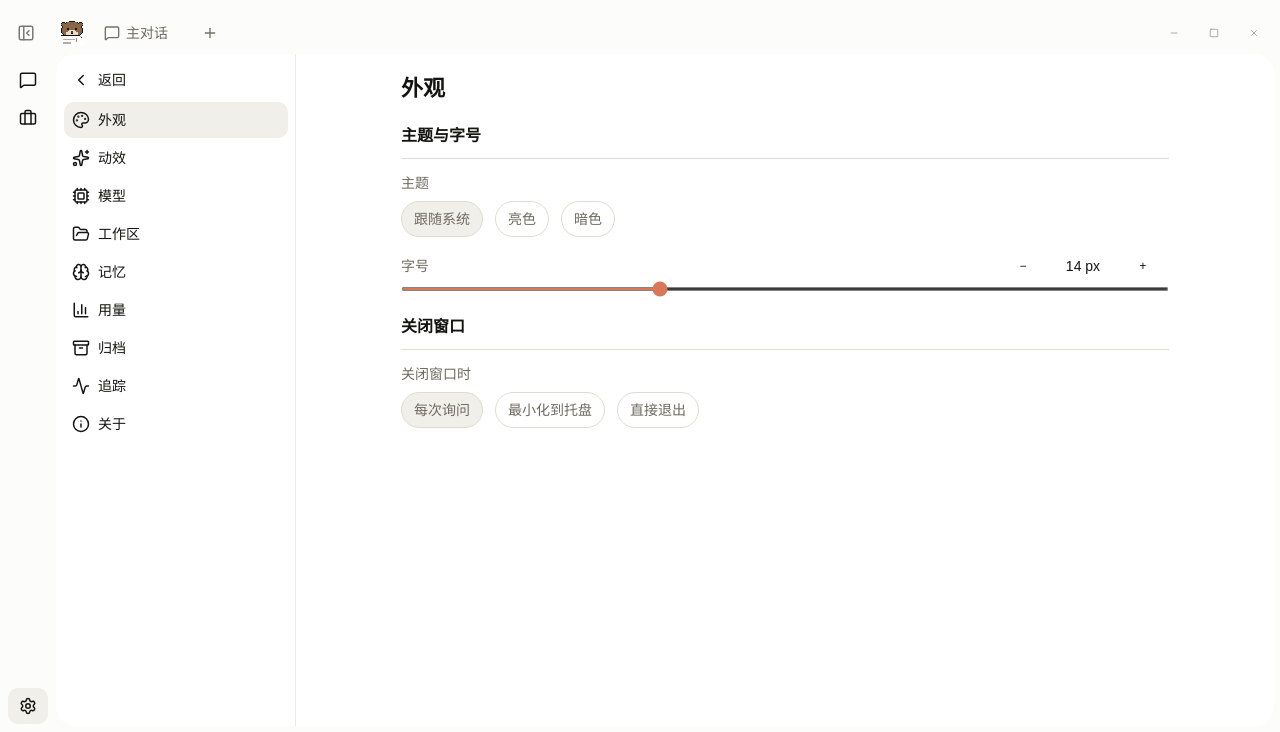
Test case: 路由与页面骨架 › 设置页按栏目切内容：左列设置菜单 + /settings/:section 深链
Expected: the element with test id "settings-page" is shown, [401,76,1169,428]
Expected: the element with test id "settings-nav" is shown, [64,62,288,442]
Click the button with test id "settings-nav-model" at (176, 196), box [64,178,288,214]
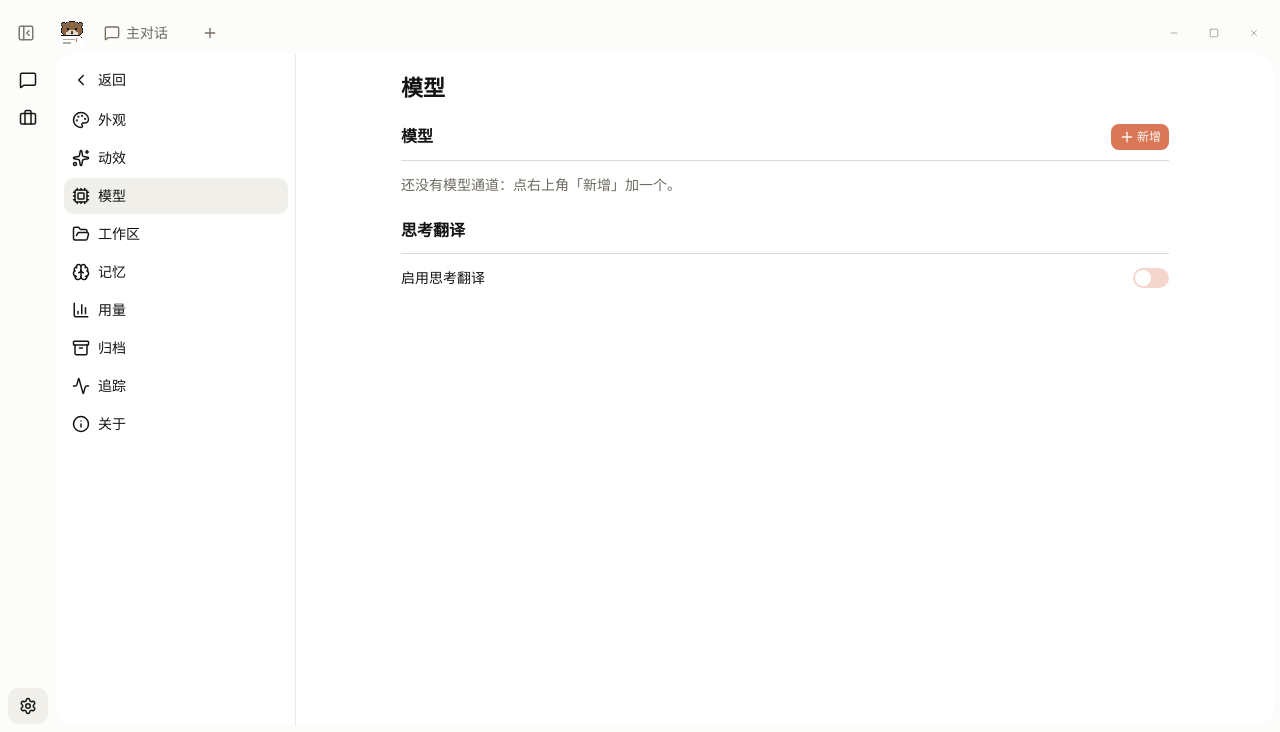
Now the element with test id "settings-group-model" is shown, box [401,124,1169,195]
Now the element with test id "settings-group-appearance" is gone
